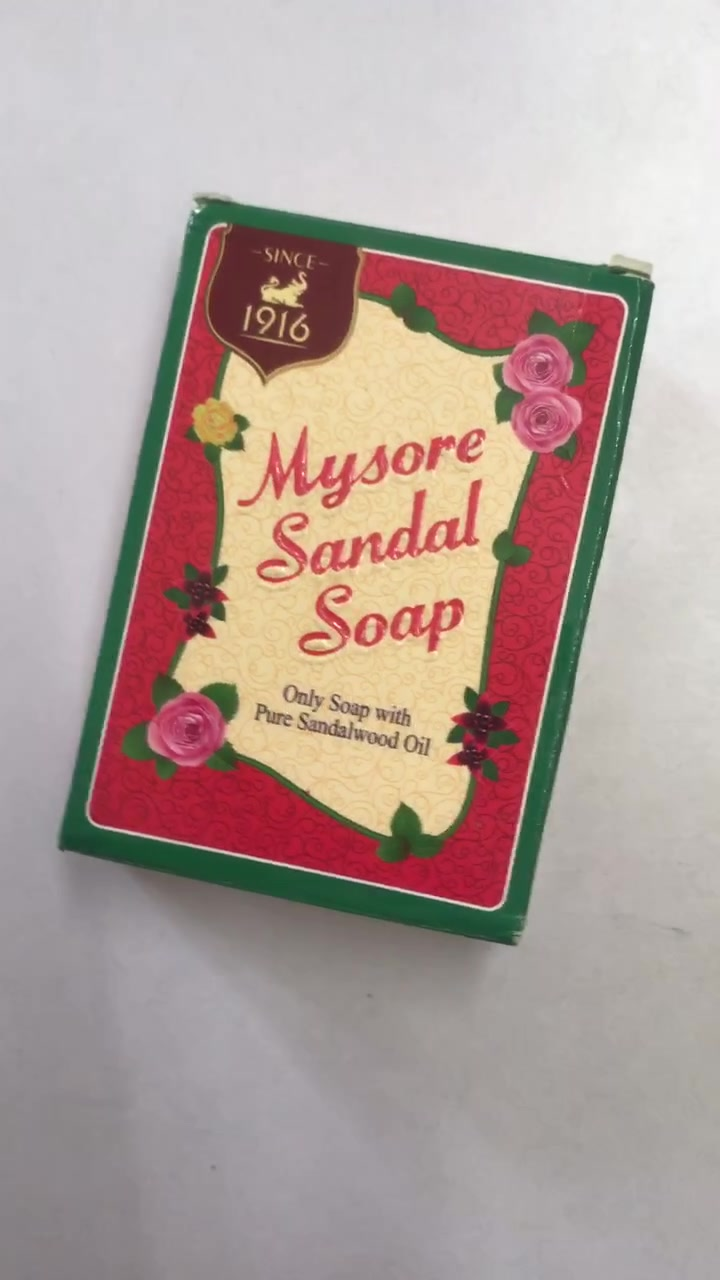mysore sandal soap: (55, 193, 649, 950)
